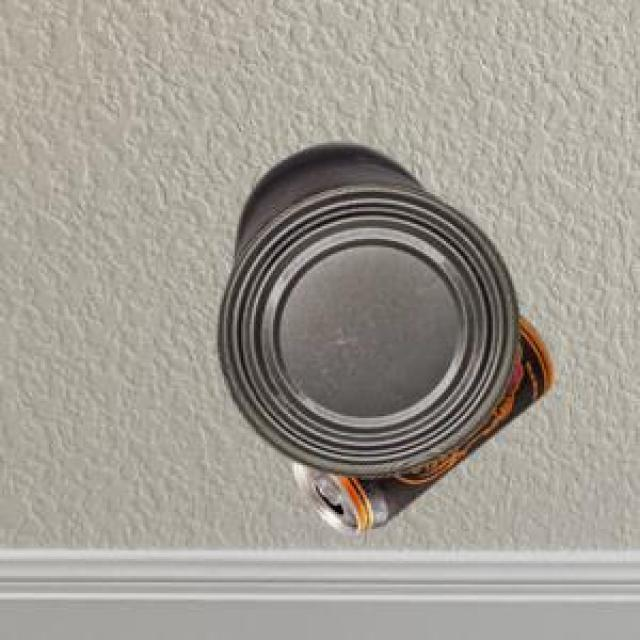Can: (214, 140, 517, 475), (291, 310, 549, 532)
